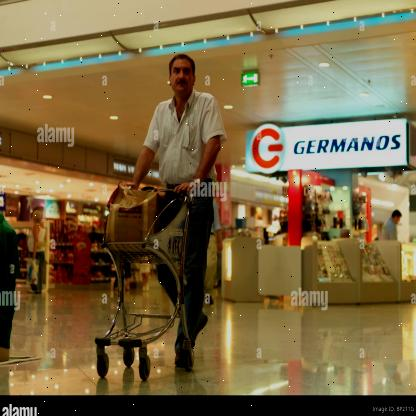airport-trolley: (92, 184, 196, 384)
